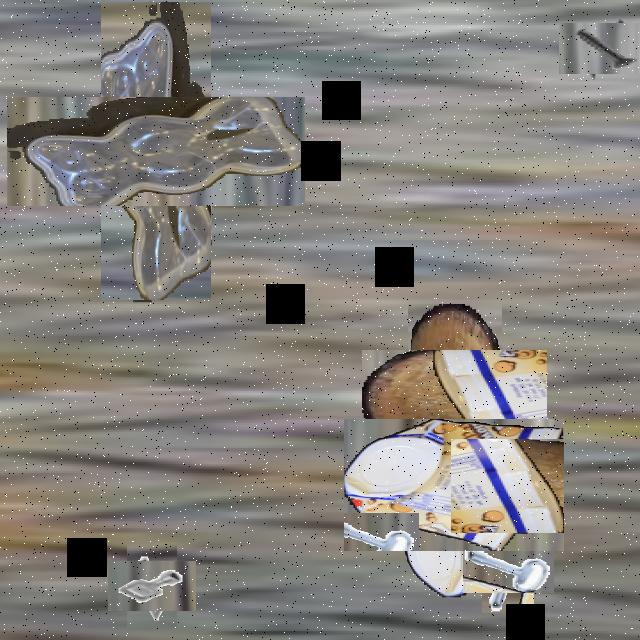metal: (472, 531, 544, 603), (569, 11, 640, 84), (117, 552, 187, 621)
plastic: (54, 49, 258, 253), (366, 397, 542, 574)
wood: (385, 327, 525, 466)
